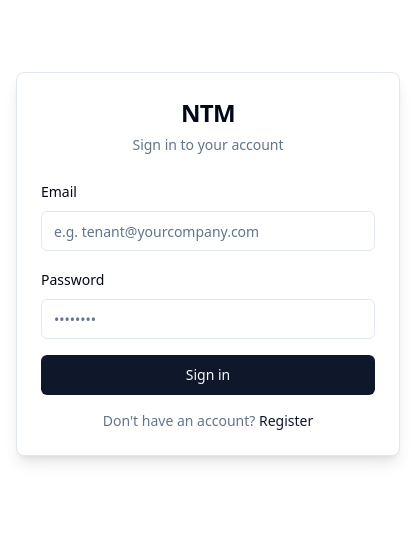
Test: LoginPage — register mode role preview › shows Platform Admin for admin@newco.com
Click the button "Register". click: click(286, 421)
box: x1=259 y1=411 x2=313 y2=431
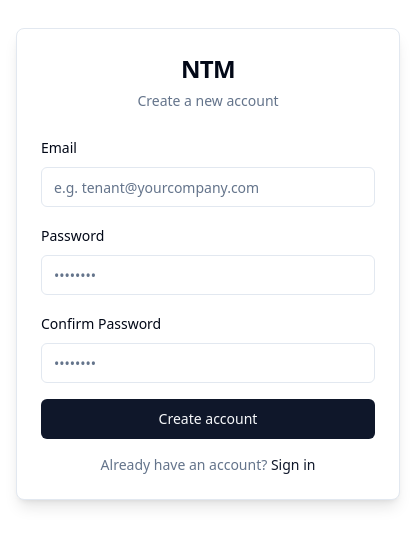
Type "admin@newco.com" into the field labelled "Email". click: (208, 187)
box: x1=41 y1=167 x2=375 y2=207
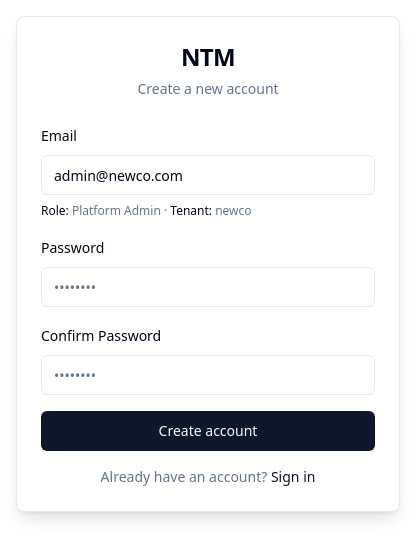
Expected: the text "Role: Platform Admin · Tenant: newco" is shown, x1=41 y1=202 x2=252 y2=219
